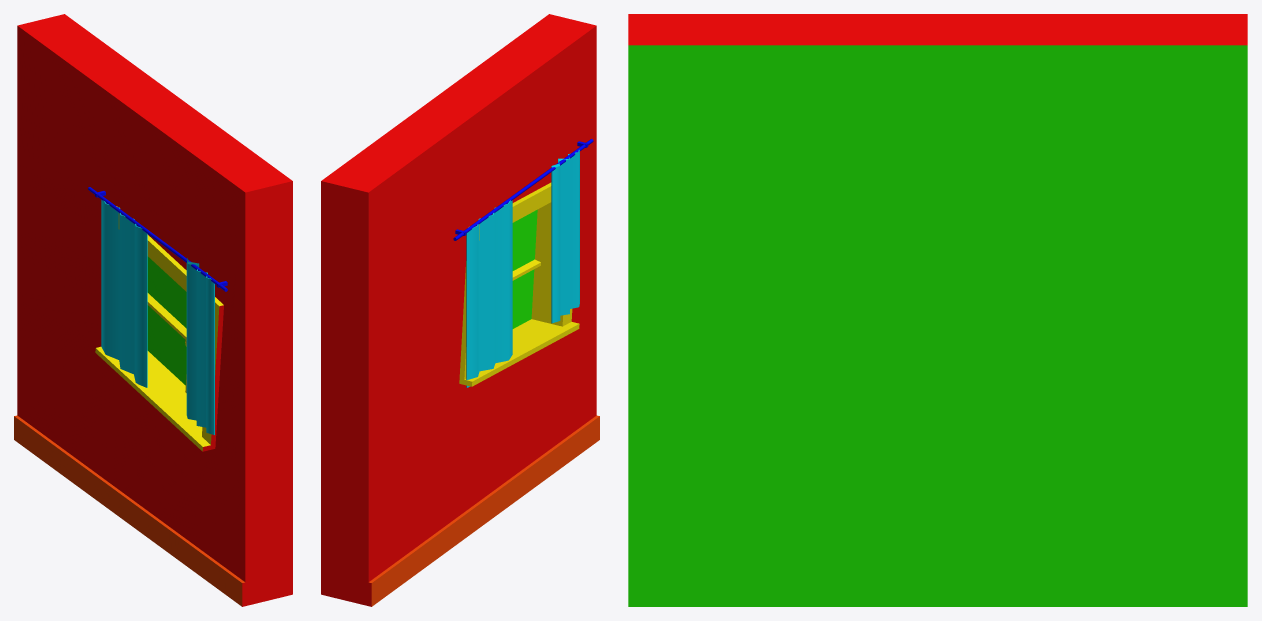
File: WallWindowCurtain002.FBX
3 renders of one model, left to right at view 1: azimuth 30°, elevation 25°; view 2: azimuth 150°, elevation 25°; view 3: azimuth 270°, elevation 25°, orthographic. The views are drawn at different scales.
Visible parts, largest first — view 1: WallWindowCurtain003; view 2: WallWindowCurtain003; view 3: WallWindowCurtain003.
Part boxes in pixels (<box>): WallWindowCurtain003: <box>14,14,292,606</box>; WallWindowCurtain003: <box>321,14,599,606</box>; WallWindowCurtain003: <box>628,14,1247,606</box>.
Size of the model in its own units: 38 by 250 by 250.
